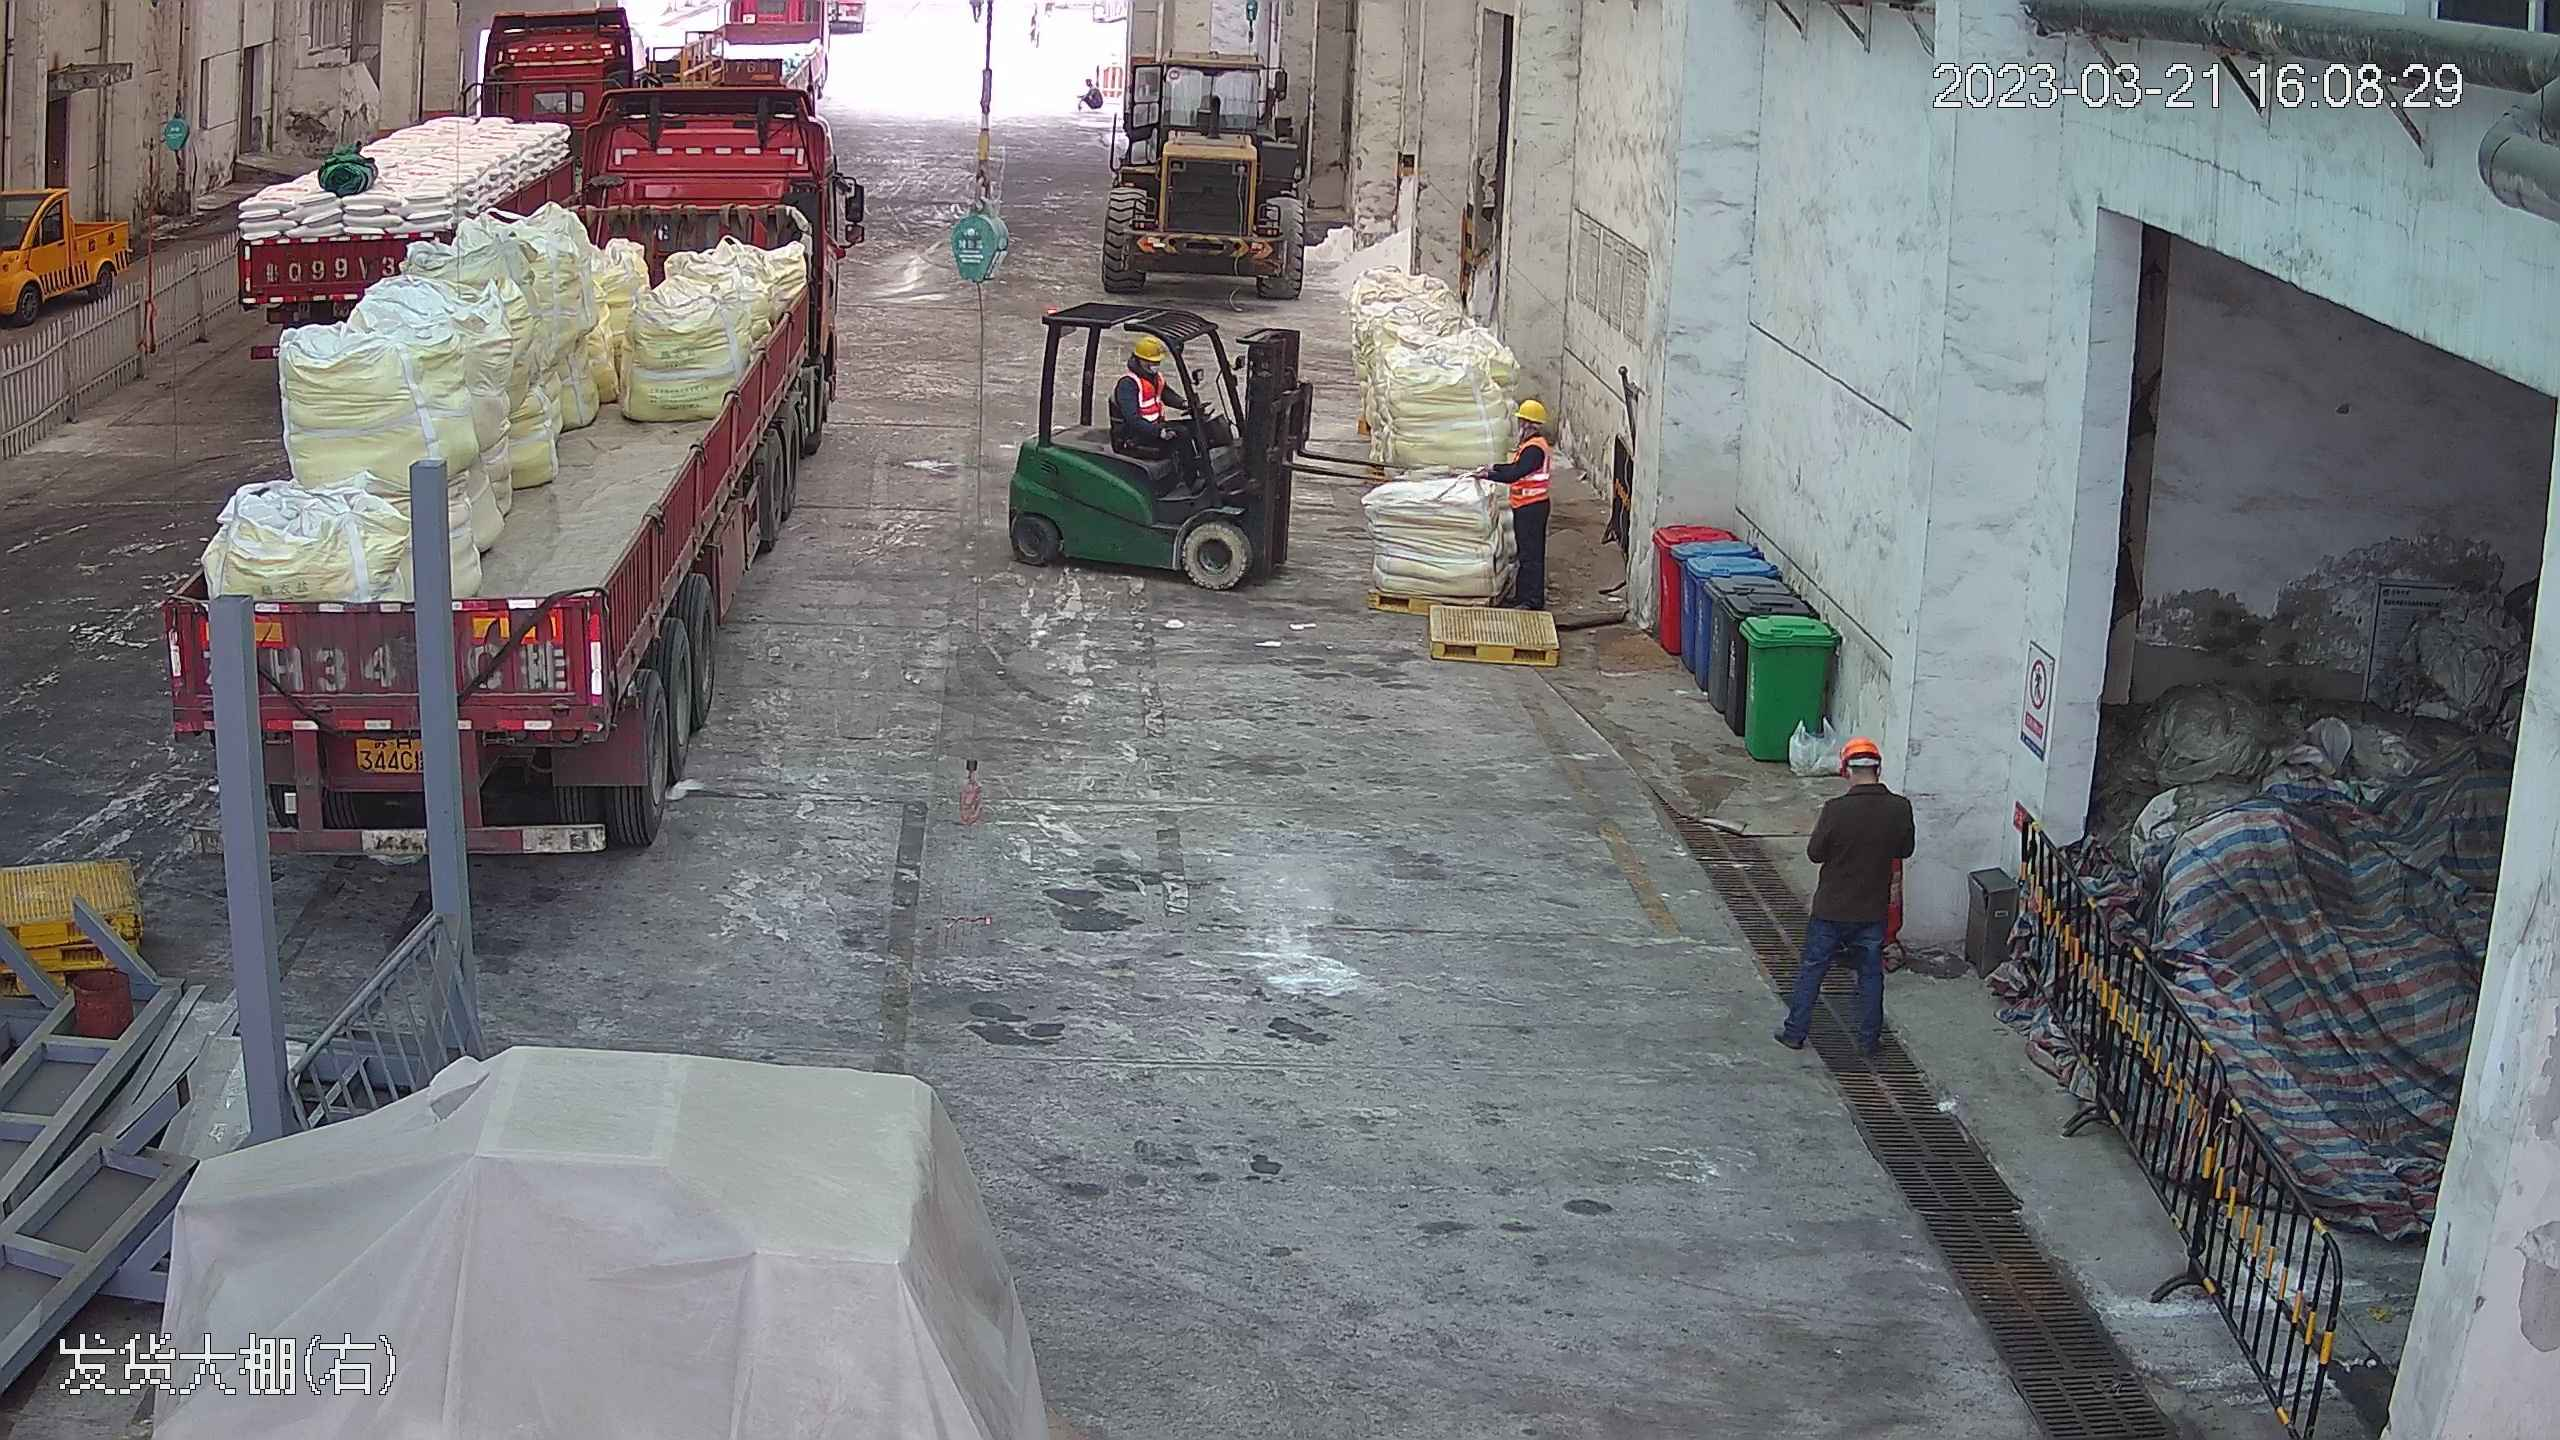head: (1814, 730, 1912, 835), (1115, 334, 1174, 403), (1502, 396, 1557, 468)
helmet: (1836, 730, 1888, 770), (1514, 397, 1551, 425), (1130, 332, 1168, 361)
people: (1774, 728, 1917, 1078), (1479, 394, 1558, 617), (1113, 331, 1211, 501)
truck: (168, 17, 853, 856)
